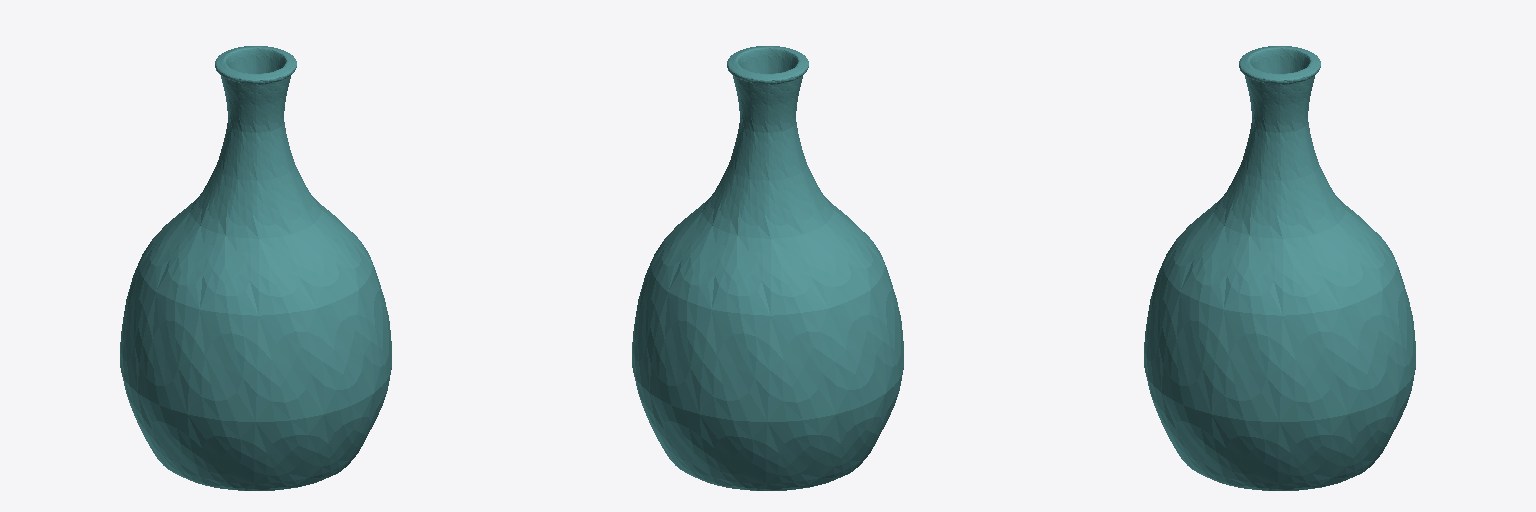
Rendered from bot2.obj.
The picture shows the model from 3 angles: view 1: azimuth 30°, elevation 25°; view 2: azimuth 150°, elevation 25°; view 3: azimuth 270°, elevation 25°; orthographic projection.
Visible parts, largest first — view 1: objBottle8; view 2: objBottle8; view 3: objBottle8.
Boxes of the visible parts, <box> form: objBottle8: <box>120,46,391,490</box>; objBottle8: <box>632,46,903,490</box>; objBottle8: <box>1144,46,1415,490</box>.
Bounding box in the file's own units: 11.44 × 18.09 × 11.44.